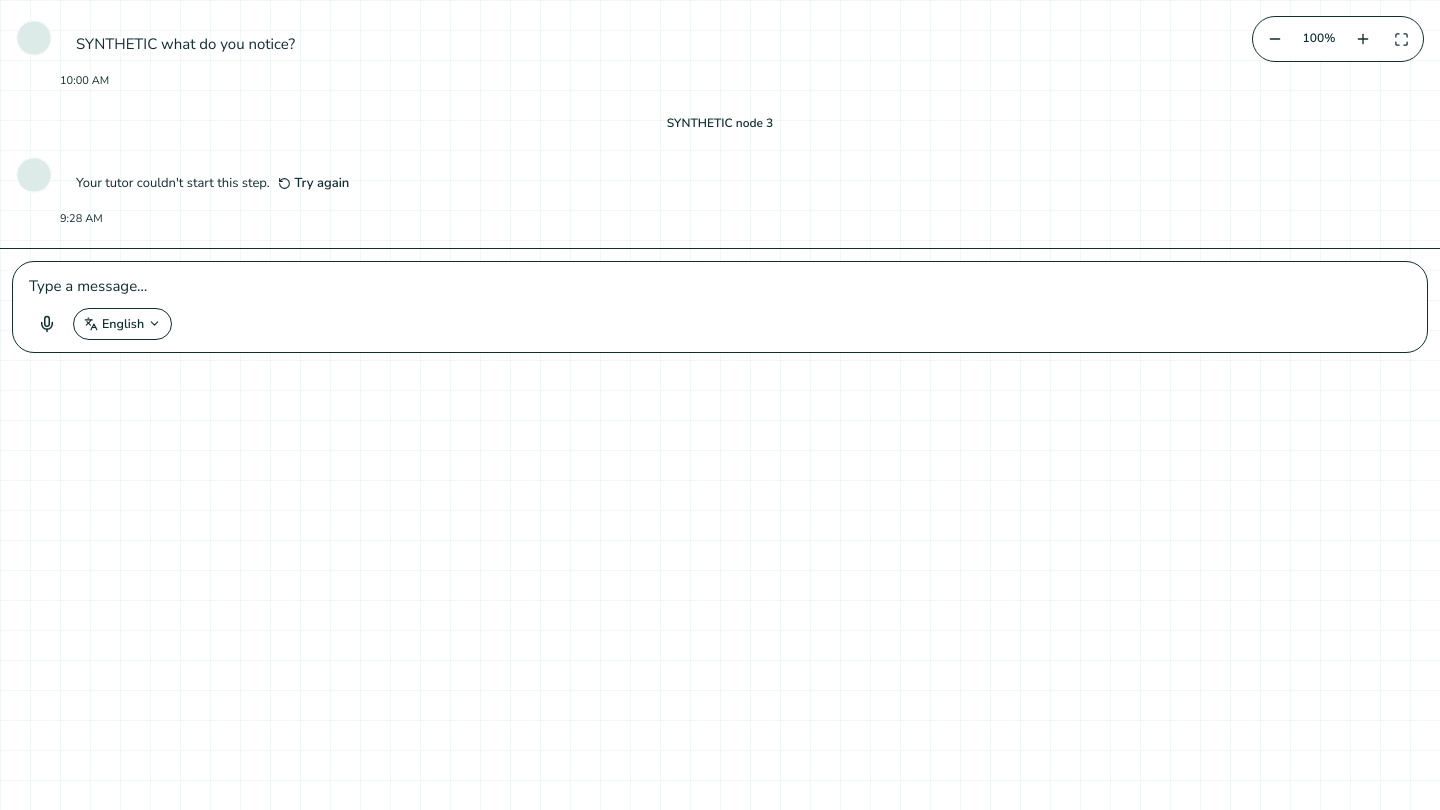
moving to the next step, on screen › an opening that fails says so, and Try again asks for it again
The width and height of the screenshot is (1440, 810).
Expected: the message shows "Your tutor couldn't start this step.", [76,174,270,192]
Click the button "Try again" at {"x": 313, "y": 184}, box [278,173,349,194]
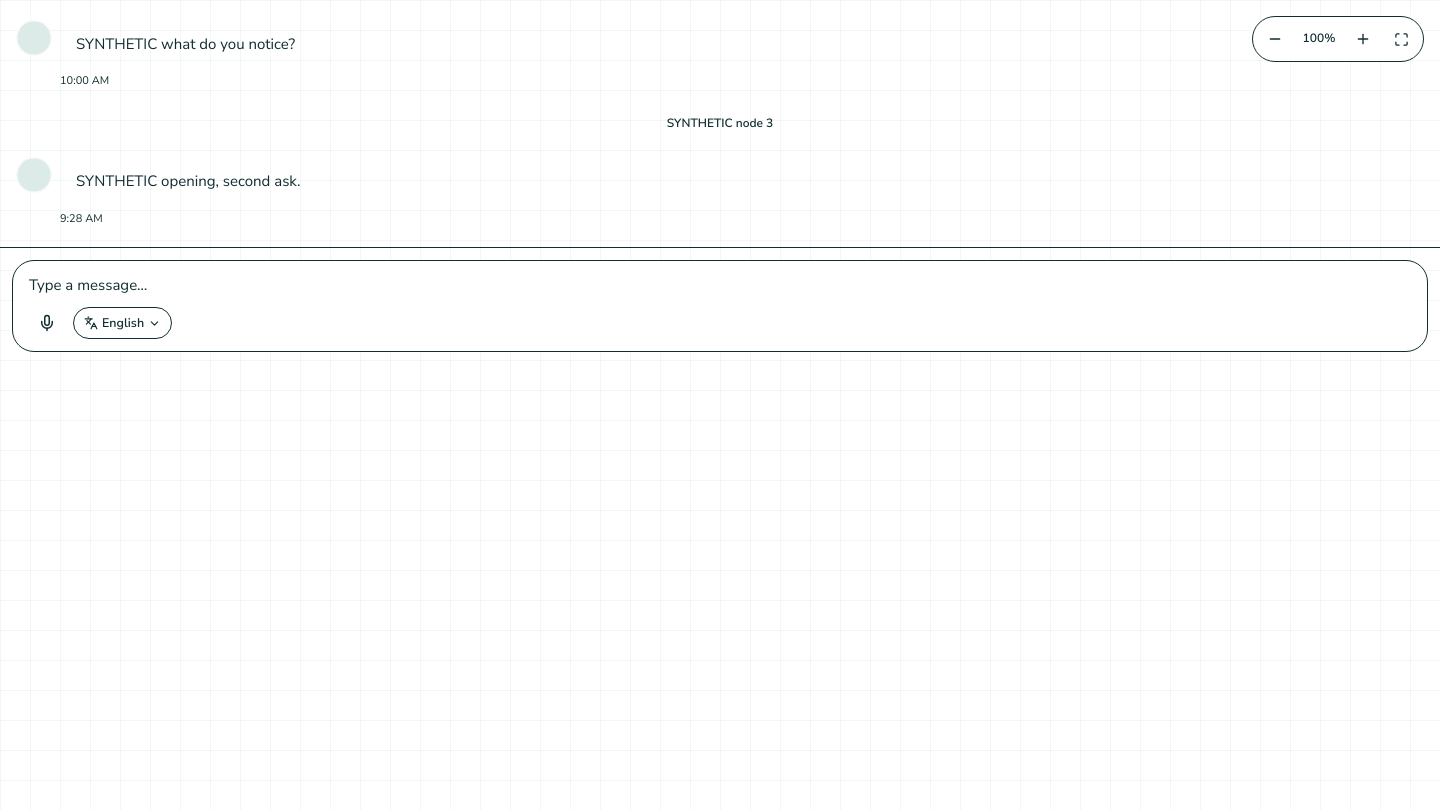
Expected: the text "SYNTHETIC opening, second ask." is shown, [76,169,300,194]
Expected: the text "Your tutor couldn't start this step." is gone
